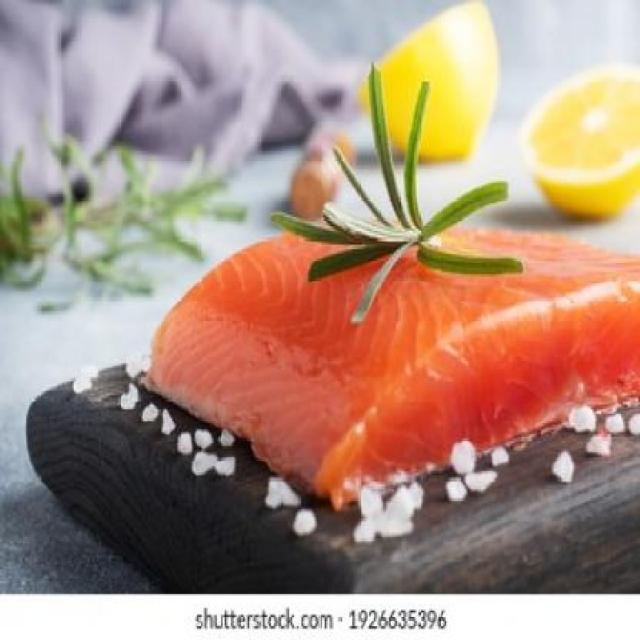salmon: (134, 164, 639, 506)
